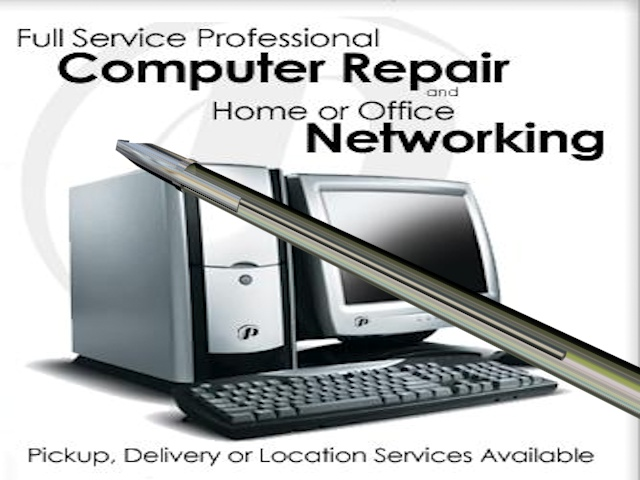pen: (113, 129, 640, 432)
